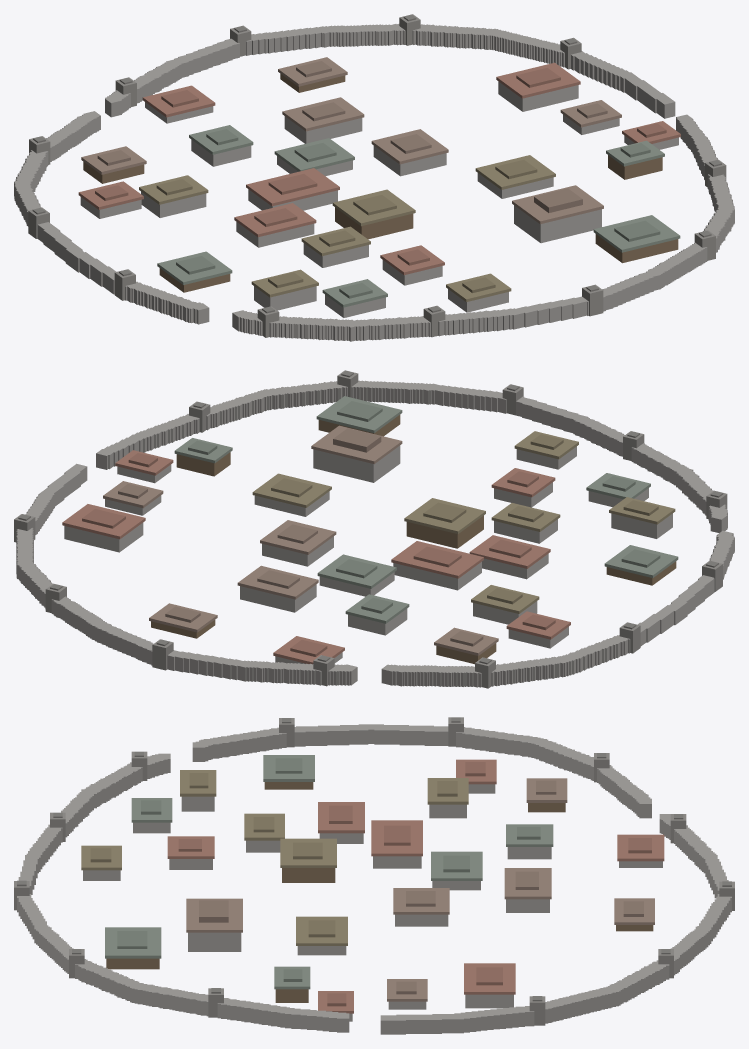
The model's file is ciudad_capital_regional_1534_2138_01.glb.
The picture shows the model from 3 angles, top to bottom: view 1: azimuth 30°, elevation 25°; view 2: azimuth 150°, elevation 25°; view 3: azimuth 270°, elevation 25°; orthographic projection.
Parts seen in each view (by area): view 1: ciudad_capital_regional_1534_2138; view 2: ciudad_capital_regional_1534_2138; view 3: ciudad_capital_regional_1534_2138.
Boxes of the visible parts, bbox=[...] form: ciudad_capital_regional_1534_2138: bbox=[14, 14, 734, 341]; ciudad_capital_regional_1534_2138: bbox=[14, 370, 734, 688]; ciudad_capital_regional_1534_2138: bbox=[14, 717, 734, 1034].
Size of the model in its own units: 112 by 5 by 115.
